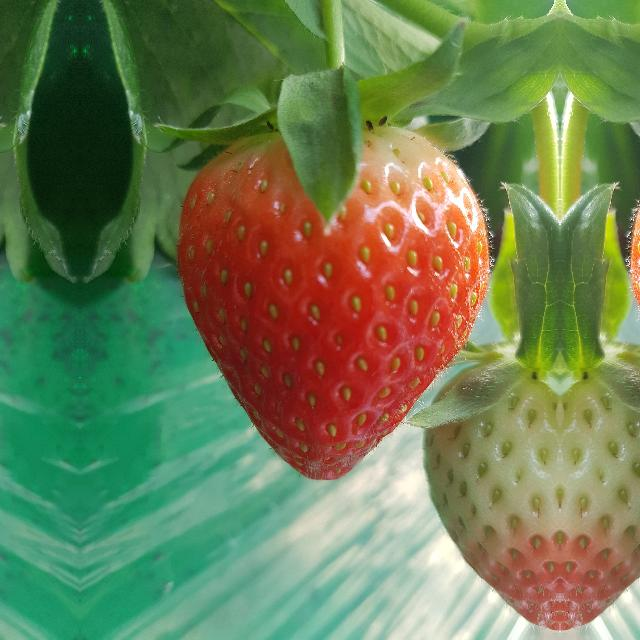Health_100: (177, 135, 491, 481)
Health_50: (422, 342, 560, 630), (560, 341, 640, 630)
